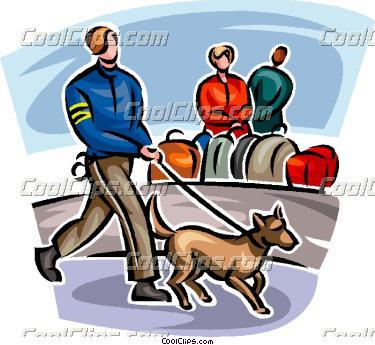dog: (141, 190, 294, 321)
person: (20, 26, 170, 304), (185, 38, 255, 139), (239, 40, 290, 137)
